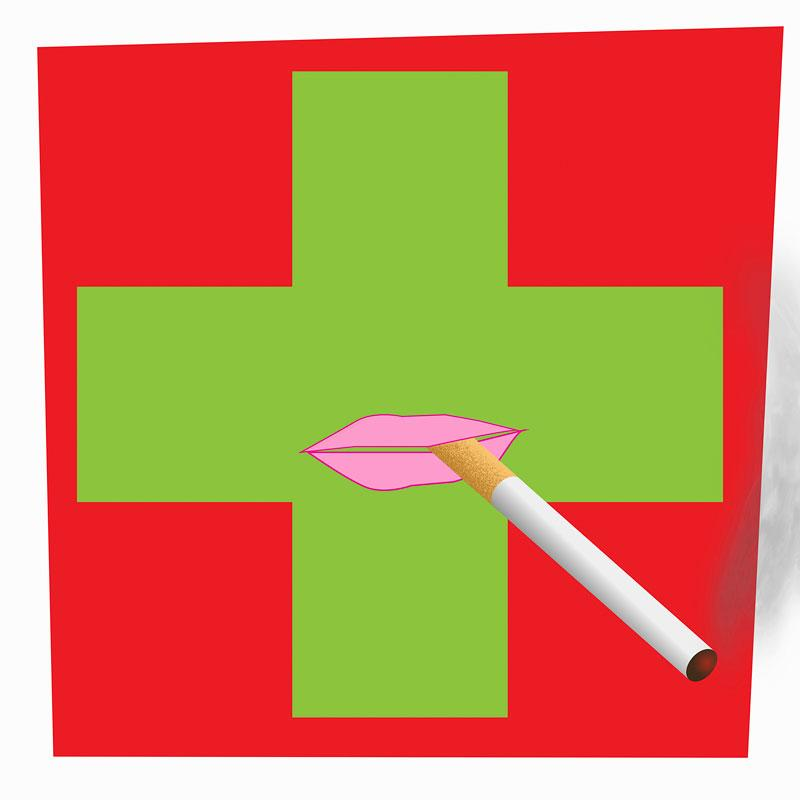smoke: (433, 435, 719, 681)
